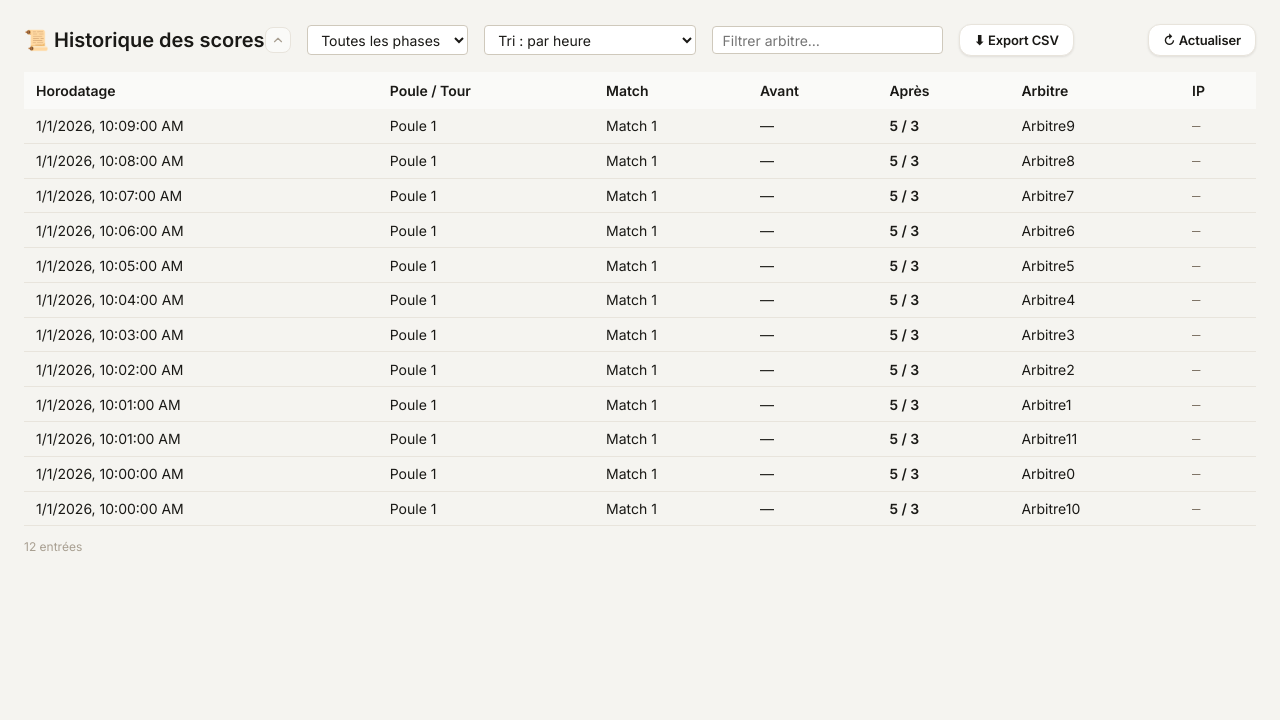
Scenario: ScoreAuditLog — compacter / déplier (#1123) › masque les entrées au-delà des premières en mode compact, puis les réaffiche
The width and height of the screenshot is (1280, 720).
Expected: the text "Arbitre0" is shown, [1009, 456, 1180, 491]
Click the button named "Compacter".
click(278, 40)  # box [264, 27, 290, 53]
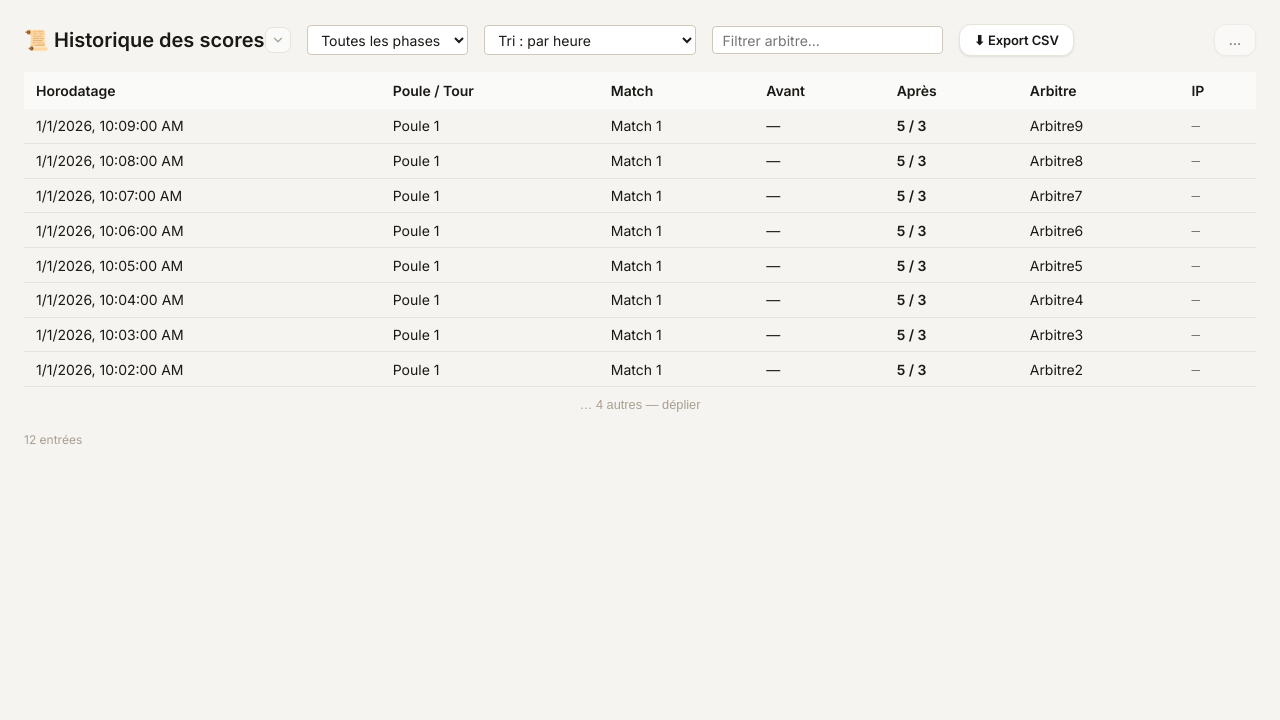
Expected: the button "… 4 autres — déplier" is shown
Expected: the number of rows is 10
Click the button "… 4 autres — déplier".
click(640, 404)  # box [580, 397, 700, 412]
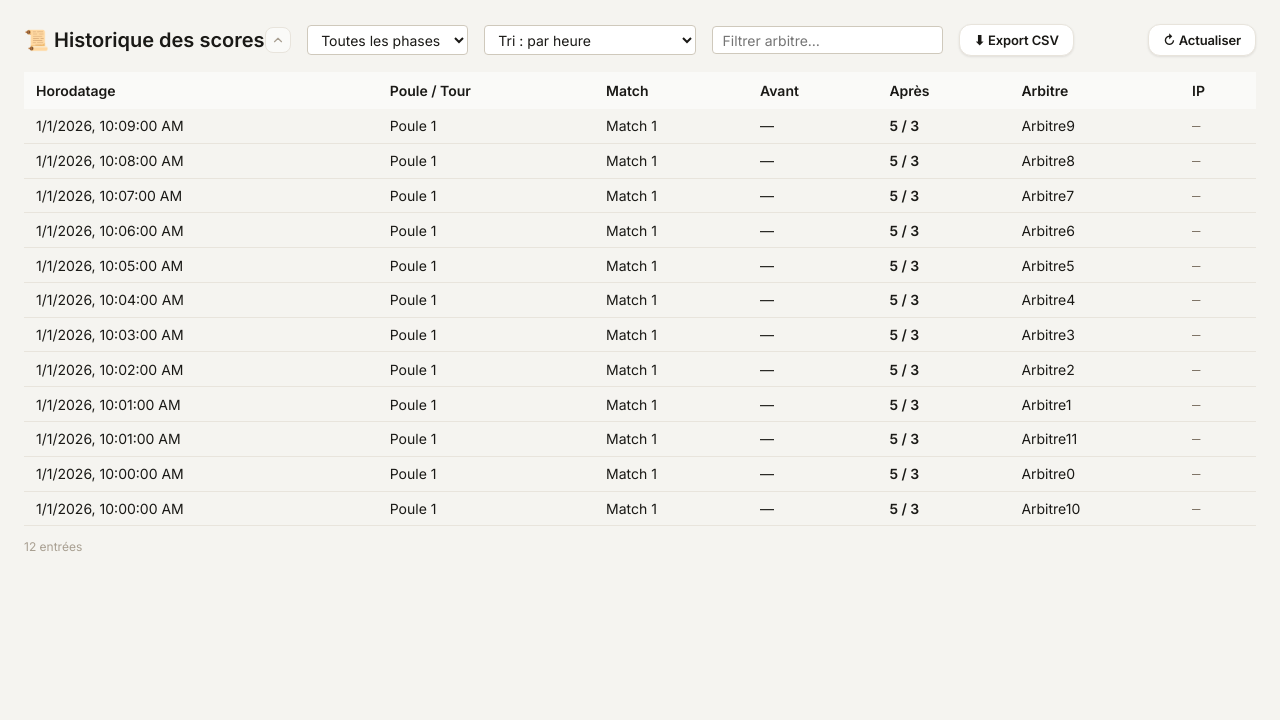
Expected: the number of rows is 13
